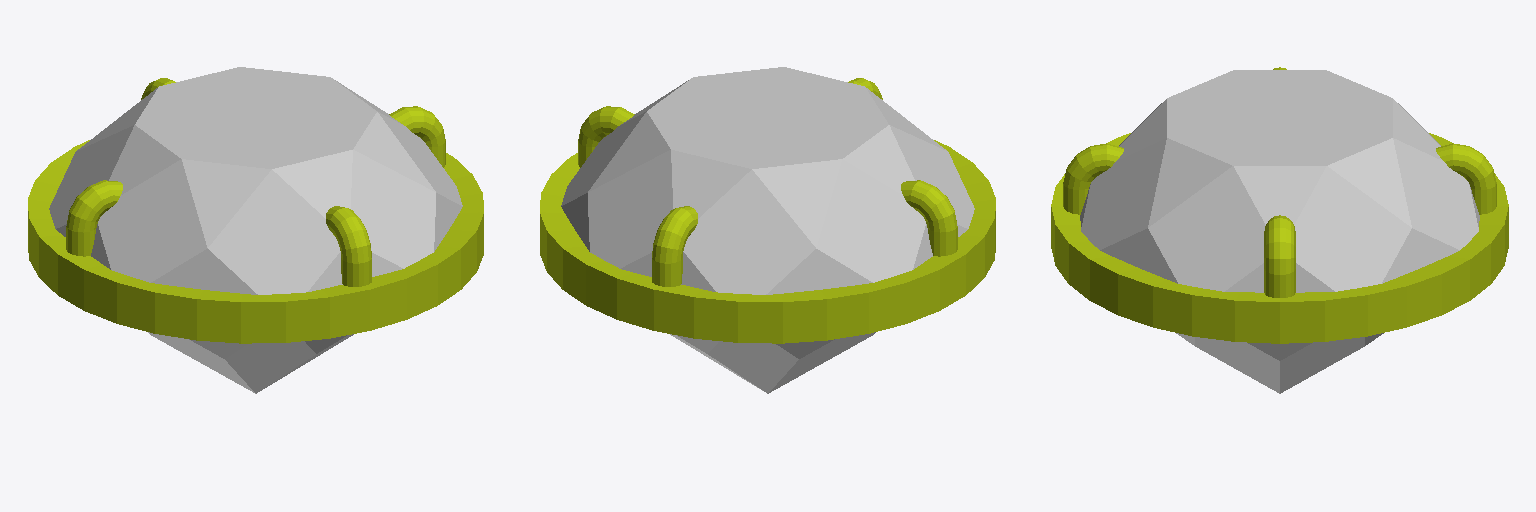
File: artifact.obj
3 views of the same model, side by side, from view 1: azimuth 30°, elevation 25°; view 2: azimuth 150°, elevation 25°; view 3: azimuth 270°, elevation 25° (orthographic).
Visible parts, largest first — view 1: Cylinder; view 2: Cylinder; view 3: Cylinder.
Boxes of the visible parts, <box> form: Cylinder: <box>28,67,483,393</box>; Cylinder: <box>540,67,995,393</box>; Cylinder: <box>1051,67,1508,393</box>.
Bounding box in the file's own units: 1.68 × 1.12 × 1.68.